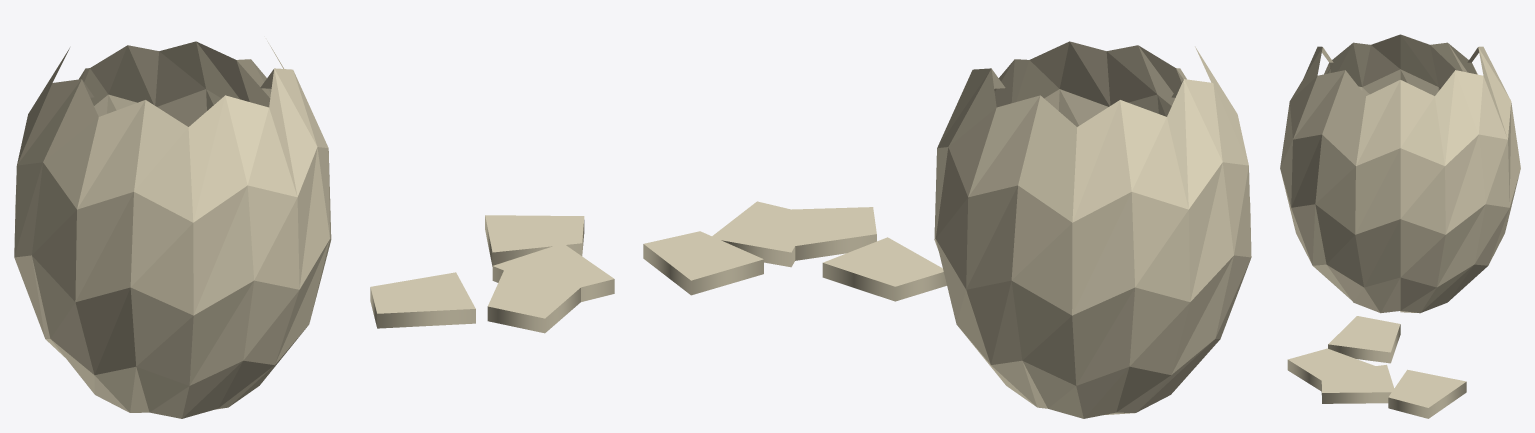
Rendered from primeval-frontier-broken-eggshell-89ed9100__1769.glb.
3 views of the same model, side by side, from view 1: azimuth 30°, elevation 25°; view 2: azimuth 150°, elevation 25°; view 3: azimuth 270°, elevation 25° (orthographic). The views are drawn at different scales.
Visible parts, largest first — view 1: broken-eggshell; view 2: broken-eggshell; view 3: broken-eggshell.
Boxes of the visible parts, <box> form: broken-eggshell: <box>14,41,614,418</box>; broken-eggshell: <box>643,41,1251,418</box>; broken-eggshell: <box>1280,34,1520,418</box>.
Bounding box in the file's own units: 1.01 × 0.5956 × 0.4992.
